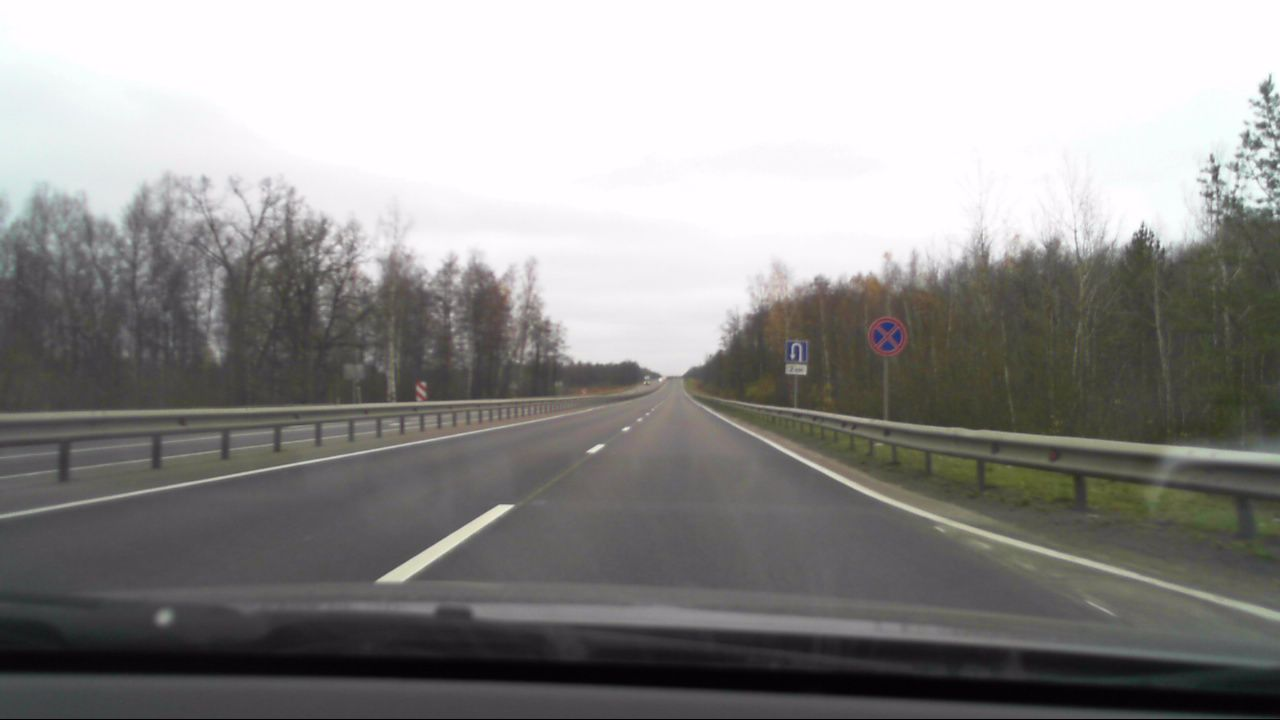No Parking: (867, 315, 906, 358)
U-turn: (786, 341, 806, 362)
